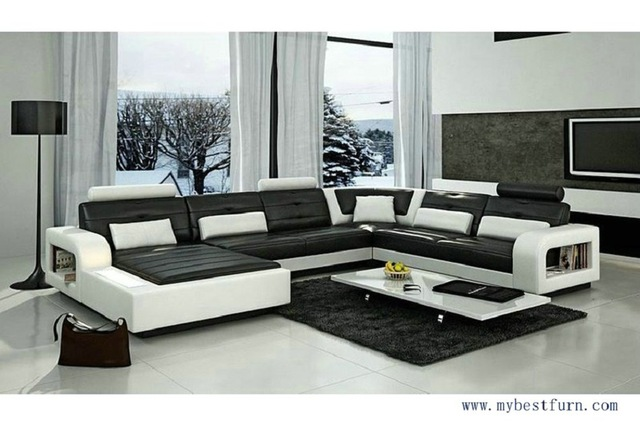chairs: (42, 178, 603, 337)
